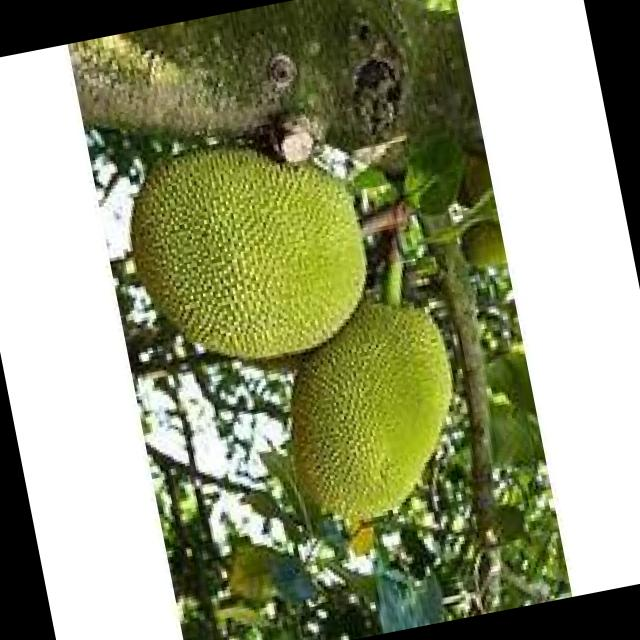Fruit: (98, 106, 400, 389), (249, 270, 492, 550)
